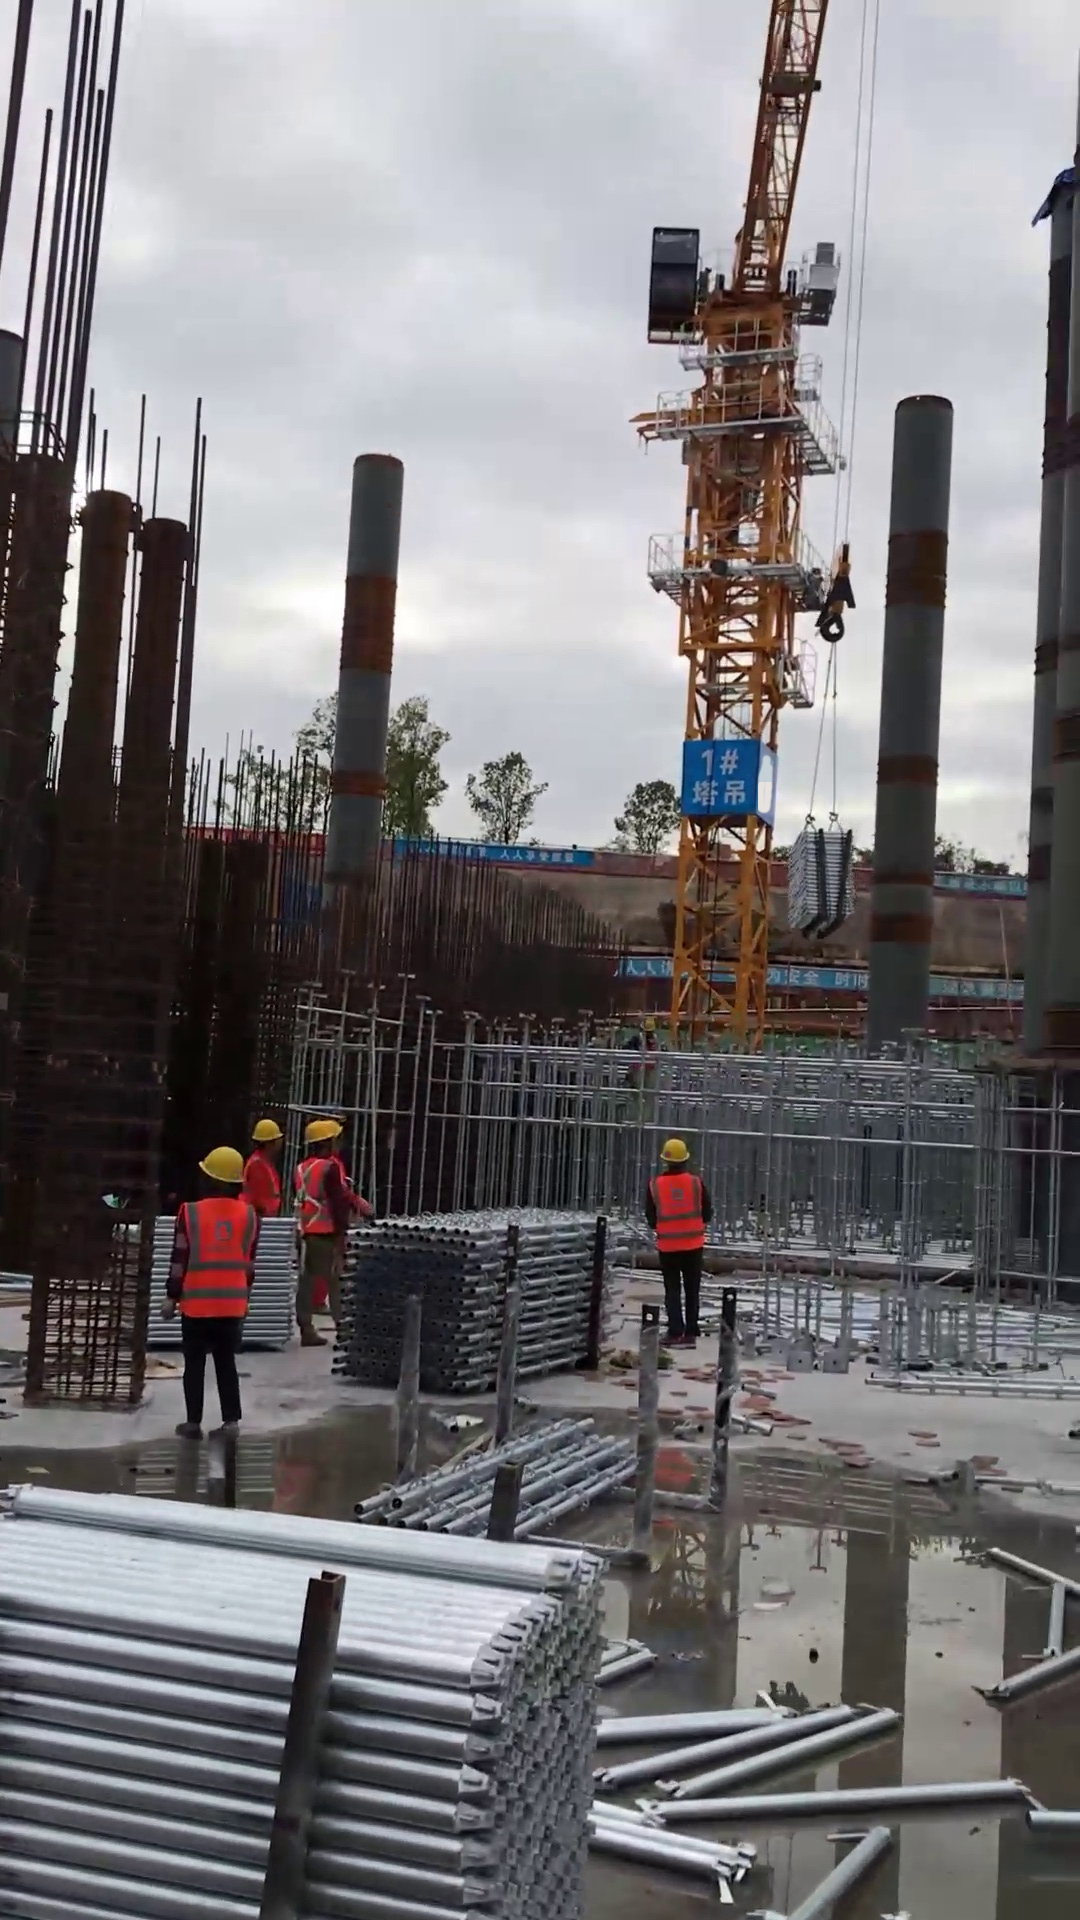helmet: (190, 1146, 250, 1190), (653, 1132, 697, 1172), (301, 1111, 344, 1150), (244, 1119, 287, 1150)
hook: (818, 541, 866, 653)
person: (161, 1139, 264, 1453), (629, 1129, 726, 1358), (289, 1111, 375, 1351), (236, 1108, 292, 1225)
scaffold: (1, 1460, 614, 1917), (337, 1201, 640, 1401)
slogan: (433, 844, 595, 870), (776, 961, 869, 993), (934, 973, 1023, 1006), (943, 868, 1029, 901)
vest: (157, 1189, 253, 1332), (636, 1167, 714, 1263), (283, 1160, 350, 1243), (242, 1144, 287, 1224)
